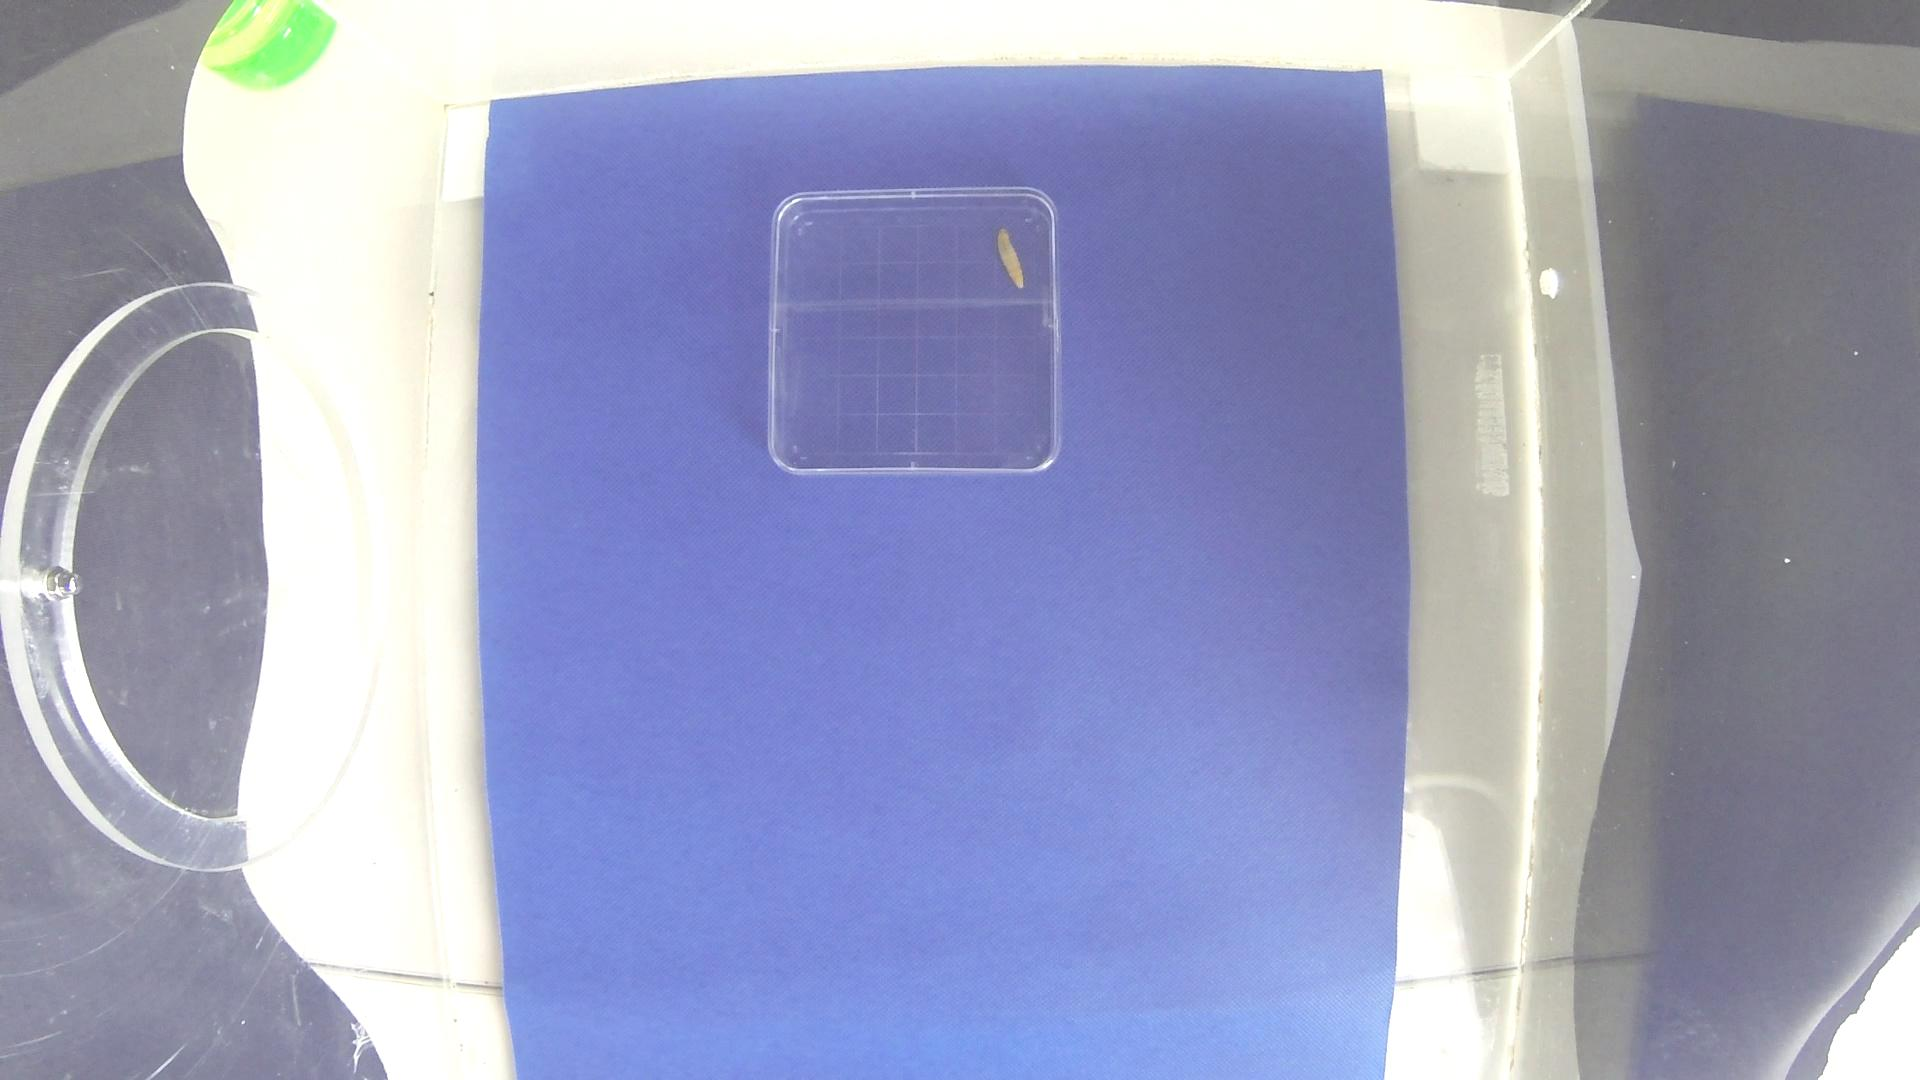larva: (1000, 232, 1028, 293)
